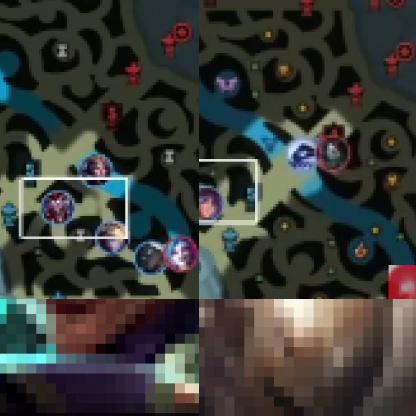Akali: (316, 134, 351, 172)
Ezreal: (94, 222, 129, 255)
Jinx: (163, 235, 198, 271)
Karma: (0, 299, 198, 415)
Leblanc: (80, 153, 115, 186)
Lillia: (199, 186, 225, 224)
Pantheon: (199, 299, 415, 415)
Senna: (134, 241, 167, 274)
Shaco: (41, 190, 75, 224)
Xerath: (284, 139, 321, 174)
